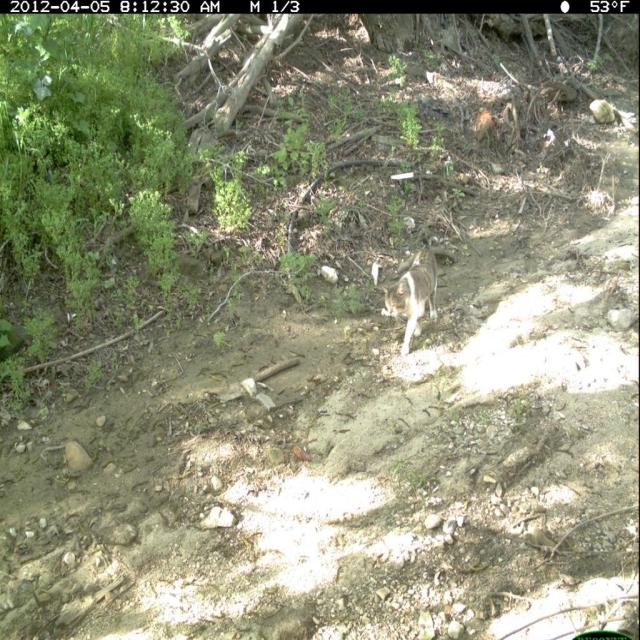cat: (375, 238, 446, 368)
